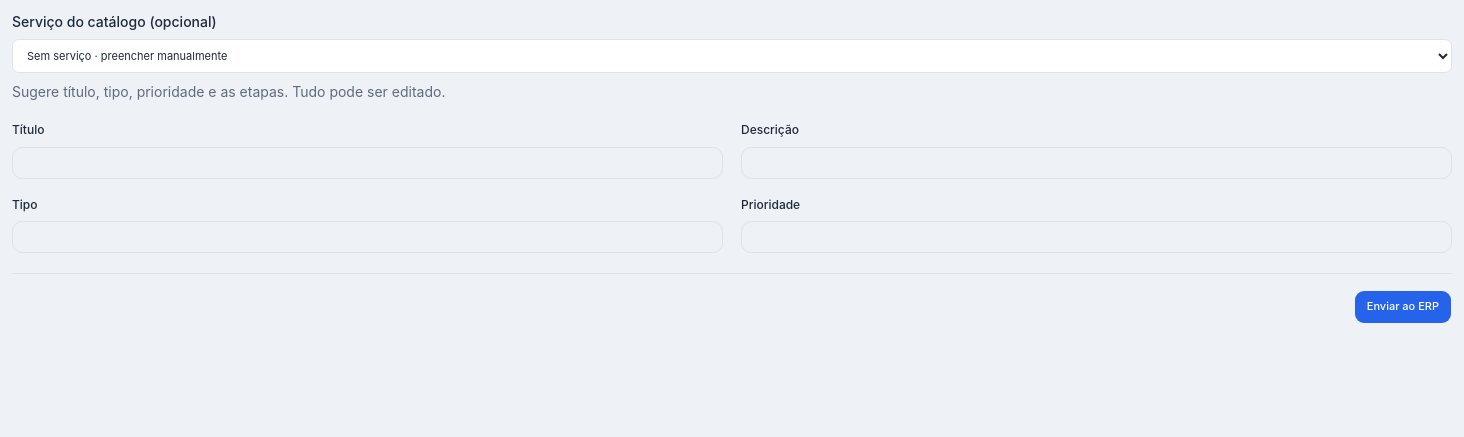
Test: OrderContractForm (abertura com catálogo) › preenche os campos sem abrir aviso bloqueante
Select "Troca de senha Wi-Fi" in the dropdown labelled "Serviço do catálogo (opcional)": (732, 56) [12,39,1452,73]
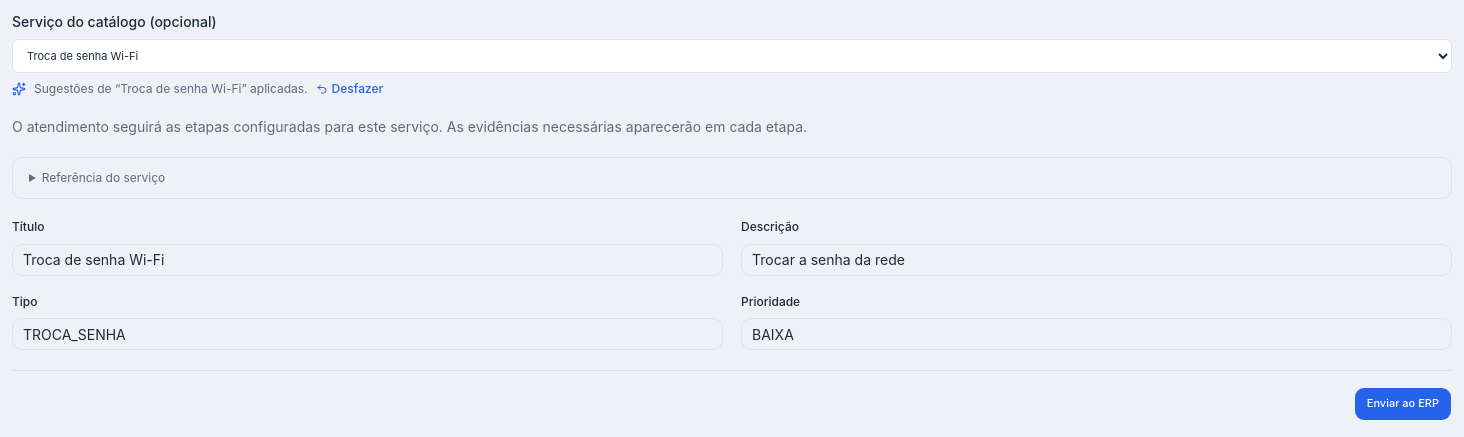
Now the field labelled "Título" holds "Troca de senha Wi-Fi", box [12,244,723,276]
Now the field labelled "Tipo" holds "TROCA_SENHA", box [12,318,723,350]
Now the field labelled "Prioridade" holds "BAIXA", box [741,318,1452,350]
